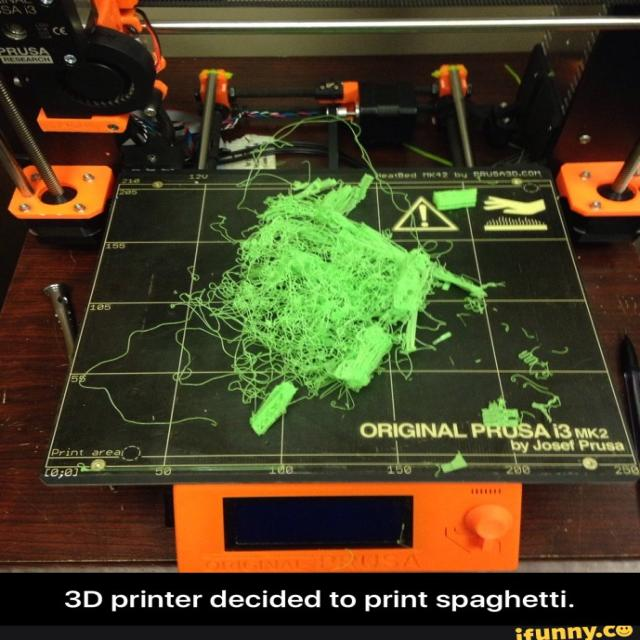spaghetti: (185, 181, 506, 402), (517, 340, 567, 380), (532, 398, 584, 428)
